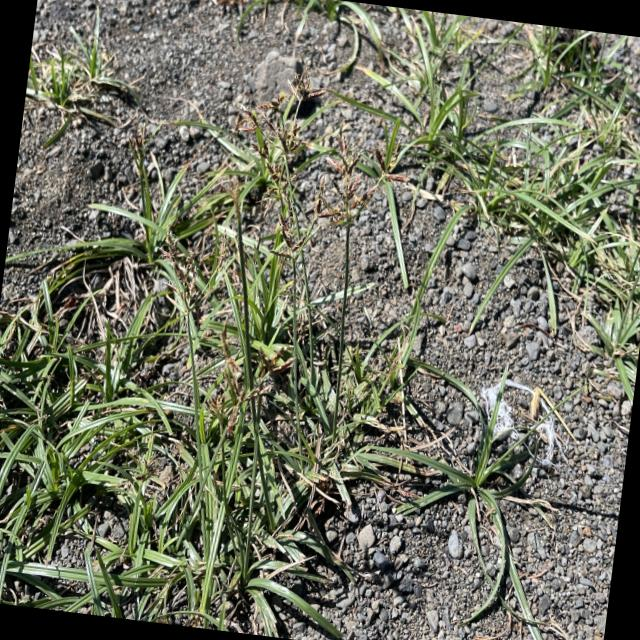cyperus: (216, 58, 340, 246), (197, 316, 300, 442), (310, 126, 408, 245), (148, 214, 213, 312), (120, 118, 156, 164)
